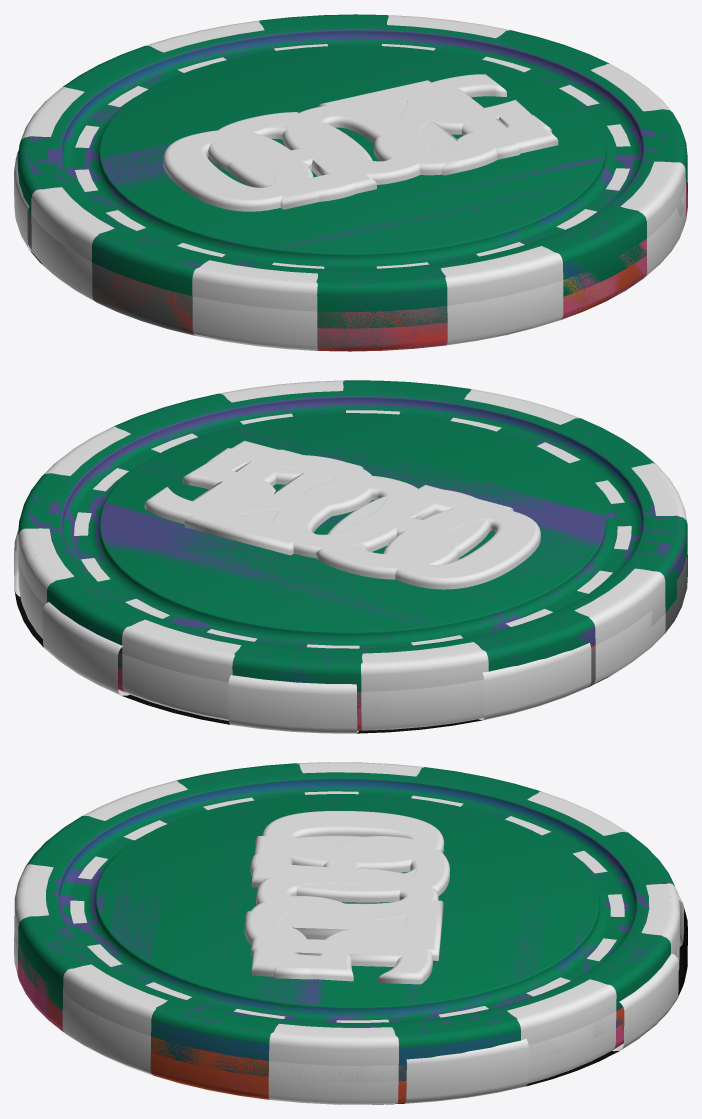
Rendered from chips.glb.
3 renders of one model, top to bottom at view 1: azimuth 30°, elevation 25°; view 2: azimuth 150°, elevation 25°; view 3: azimuth 270°, elevation 25°, orthographic.
Parts seen in each view (by area): view 1: Mesh_1004, Mesh_1004_2, Mesh_3007, Mesh_3007_2, Mesh_3007_3, Mesh_1001, Mesh_1004_3, Mesh_3003_1, Mesh_3003_2, Mesh_1006_3, Mesh_0009, Mesh_3002_2 (+6 smaller); view 2: Mesh_1004, Mesh_3007_2, Mesh_1004_2, Mesh_3007, Mesh_1, Mesh_3007_3, Mesh_1001, Mesh_1004_3, Mesh_1006_3, Mesh_3003_2, Mesh_3002, Mesh_3002_3 (+2 smaller); view 3: Mesh_1004, Mesh_1004_2, Mesh_3007, Mesh_3007_2, Mesh_1001, Mesh_3002_2, Mesh_1, Mesh_3007_3, Mesh_1006_3, Mesh_1004_3, Mesh_3002_3, Mesh_1005_1 (+3 smaller).
Part boxes in pixels (x1=…): Mesh_1004: x1=17, y1=14, x2=687, y2=328; Mesh_1004_2: x1=25, y1=15, x2=685, y2=319; Mesh_3007: x1=163, y1=74, x2=558, y2=211; Mesh_3007_2: x1=24, y1=16, x2=686, y2=311; Mesh_3007_3: x1=21, y1=16, x2=685, y2=311; Mesh_1001: x1=83, y1=187, x2=685, y2=350; Mesh_1004_3: x1=208, y1=80, x2=497, y2=209; Mesh_3003_1: x1=27, y1=210, x2=581, y2=351; Mesh_3003_2: x1=31, y1=215, x2=562, y2=350; Mesh_1006_3: x1=173, y1=80, x2=551, y2=207; Mesh_0009: x1=93, y1=180, x2=687, y2=351; Mesh_3002_2: x1=62, y1=32, x2=600, y2=328; Mesh_1004: x1=18, y1=380, x2=687, y2=707; Mesh_3007_2: x1=29, y1=382, x2=687, y2=707; Mesh_1004_2: x1=18, y1=380, x2=686, y2=691; Mesh_3007: x1=144, y1=440, x2=540, y2=589; Mesh_1: x1=14, y1=529, x2=622, y2=733; Mesh_3007_3: x1=24, y1=381, x2=687, y2=707; Mesh_1001: x1=18, y1=554, x2=658, y2=730; Mesh_1004_3: x1=184, y1=455, x2=513, y2=579; Mesh_1006_3: x1=192, y1=448, x2=526, y2=584; Mesh_3003_2: x1=362, y1=607, x2=665, y2=730; Mesh_3002: x1=243, y1=462, x2=490, y2=575; Mesh_3002_3: x1=18, y1=538, x2=488, y2=694; Mesh_1004: x1=18, y1=763, x2=674, y2=1080; Mesh_1004_2: x1=14, y1=762, x2=679, y2=1082; Mesh_3007: x1=251, y1=811, x2=444, y2=984; Mesh_3007_2: x1=34, y1=768, x2=672, y2=1037; Mesh_1001: x1=14, y1=916, x2=679, y2=1104; Mesh_3002_2: x1=59, y1=779, x2=635, y2=1081; Mesh_1: x1=340, y1=889, x2=687, y2=1104; Mesh_3007_3: x1=14, y1=762, x2=679, y2=1048; Mesh_1006_3: x1=250, y1=813, x2=443, y2=979; Mesh_1004_3: x1=244, y1=836, x2=449, y2=960; Mesh_3002_3: x1=14, y1=902, x2=679, y2=1082; Mesh_1005_1: x1=38, y1=984, x2=624, y2=1103.
Size of the model in its own units: 0.0802 by 0.0119 by 0.0812.
